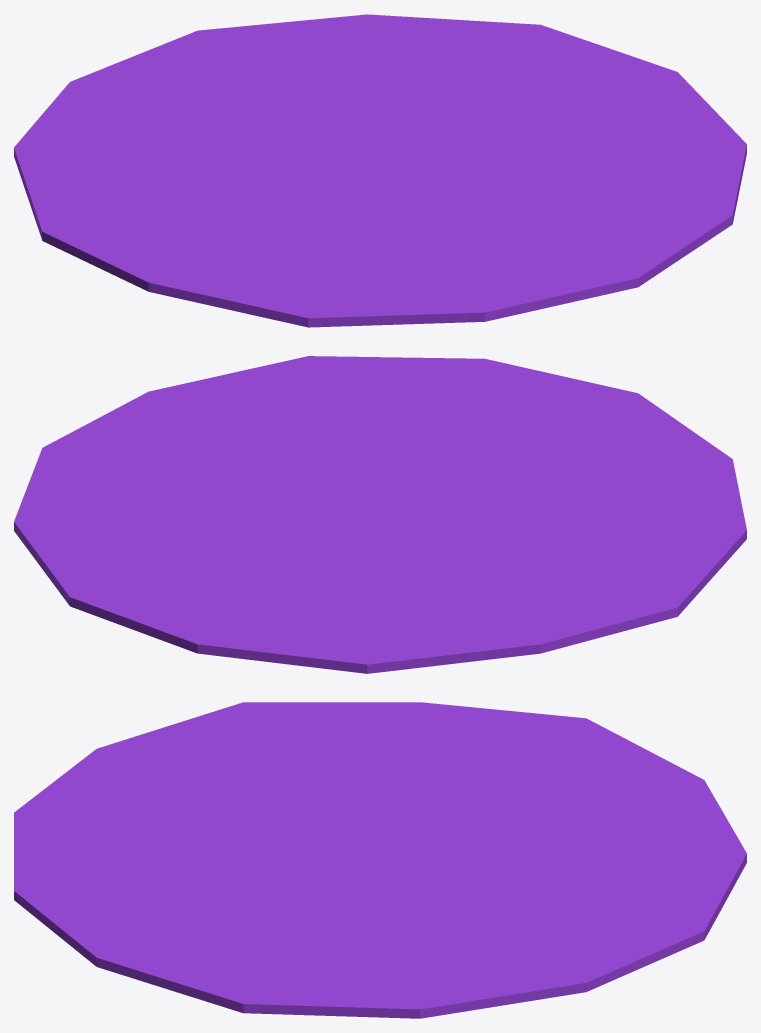
File: carpet2.fbx
3 views of the same model, one above another, from view 1: azimuth 30°, elevation 25°; view 2: azimuth 150°, elevation 25°; view 3: azimuth 270°, elevation 25° (orthographic).
Visible parts, largest first — view 1: carpet2; view 2: carpet2; view 3: carpet2.
Boxes of the visible parts, <box> form: carpet2: <box>14,14,746,327</box>; carpet2: <box>14,356,746,673</box>; carpet2: <box>14,702,746,1018</box>.
Size of the model in its own units: 211 by 6.27 by 210.
